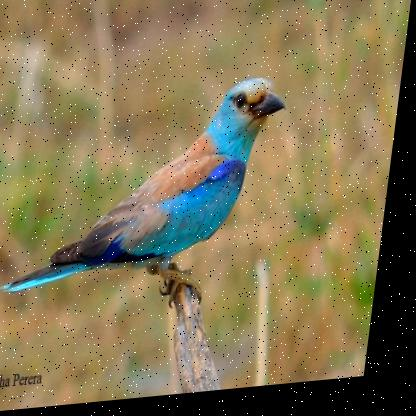Burung: (4, 78, 298, 310)
